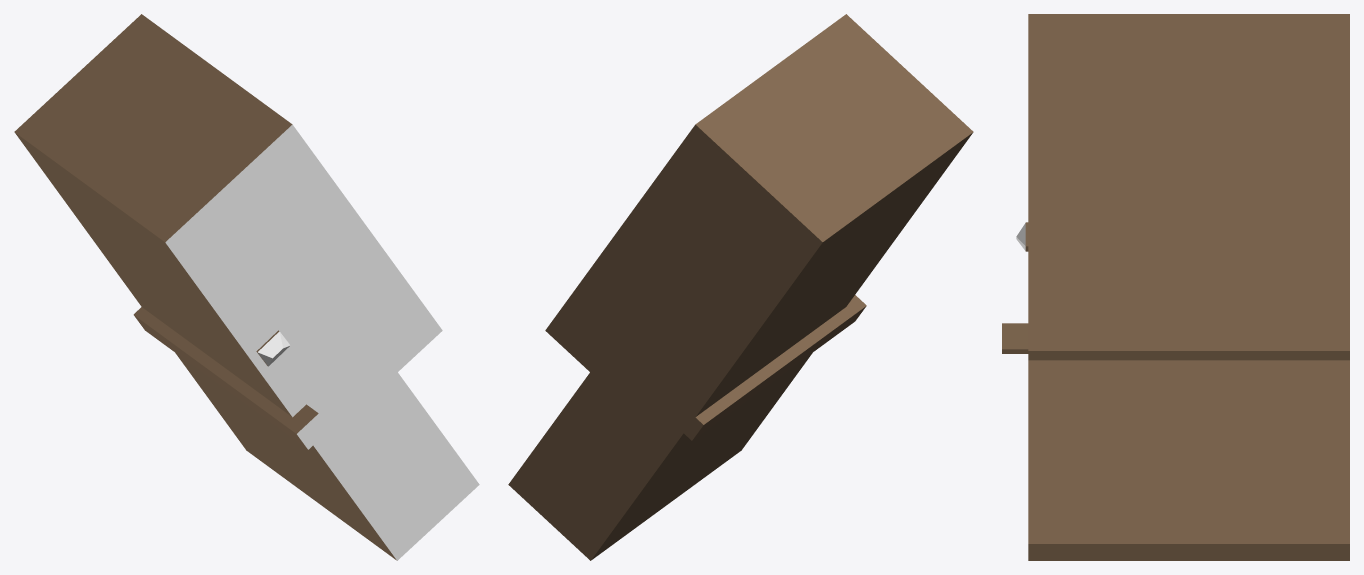
The picture shows the model from 3 angles, left to right: view 1: azimuth 30°, elevation 25°; view 2: azimuth 150°, elevation 25°; view 3: azimuth 270°, elevation 25°; orthographic projection. The views are drawn at different scales.
Visible parts, largest first — view 1: City_PC-17887; view 2: City_PC-17887; view 3: City_PC-17887.
Boxes of the visible parts, left/top/right/bottom form: City_PC-17887: left=14, top=14, right=479, bottom=560; City_PC-17887: left=508, top=14, right=973, bottom=560; City_PC-17887: left=1002, top=14, right=1349, bottom=560.
Bounding box in the file's own units: 1625 × 2281 × 1460.
